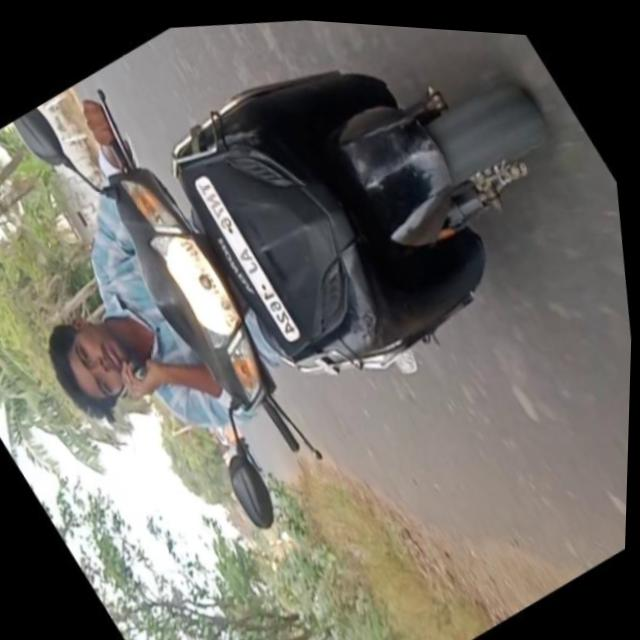USING_MOBILE: (101, 327, 235, 452)
